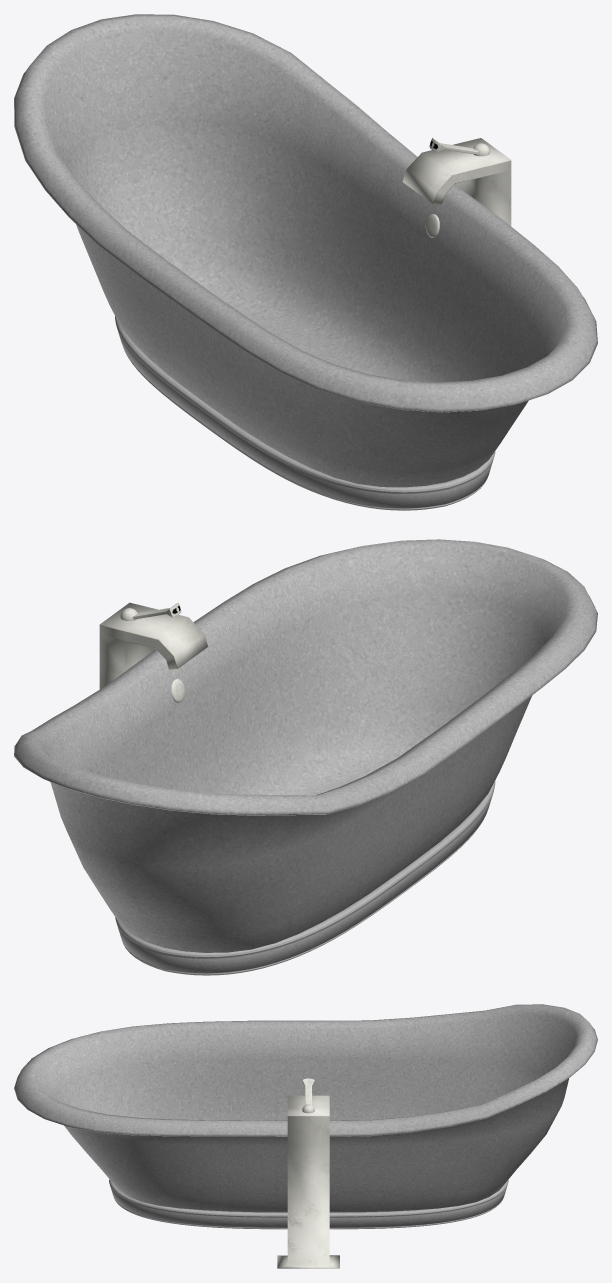
File: fit-tub.glb
The picture shows the model from 3 angles, top to bottom: view 1: azimuth 30°, elevation 25°; view 2: azimuth 150°, elevation 25°; view 3: azimuth 270°, elevation 25°; orthographic projection. The views are drawn at different scales.
Size of the model in its own units: 0.9984 by 0.6484 by 2.01.
7 materials, 6 textured.
